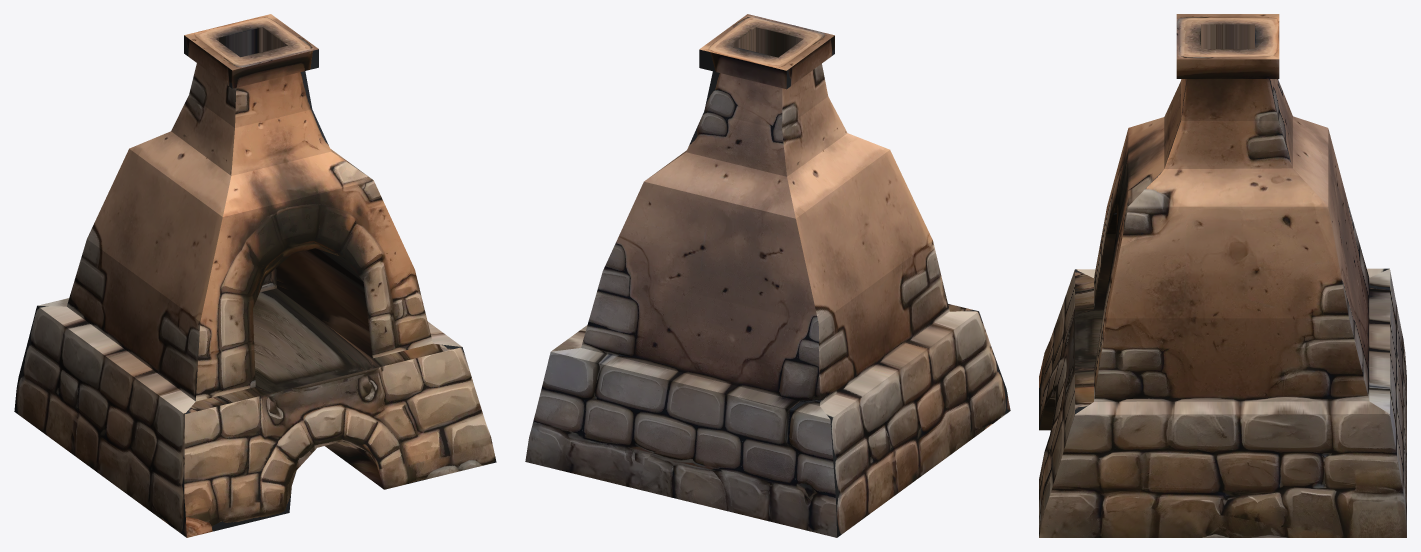
Rendered from Four.glb.
3 views of the same model, side by side, from view 1: azimuth 30°, elevation 25°; view 2: azimuth 150°, elevation 25°; view 3: azimuth 270°, elevation 25° (orthographic). The views are drawn at different scales.
Visible parts, largest first — view 1: four; view 2: four; view 3: four.
Boxes of the visible parts, left/top/right/bottom form: four: left=14, top=14, right=496, bottom=537; four: left=525, top=14, right=1010, bottom=537; four: left=1039, top=14, right=1406, bottom=537.
Size of the model in its own units: 2 by 2.43 by 1.93.
6 materials, 6 textured.
